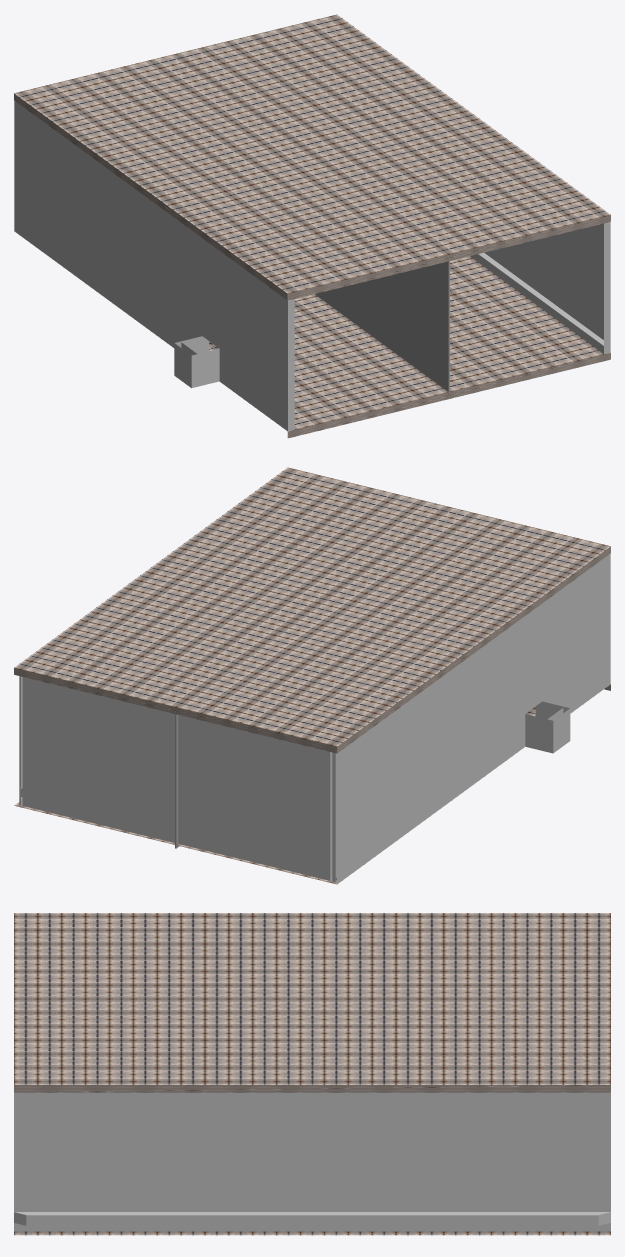
Rendered from singleroomtest.fbx.
3 views of the same model, one above another, from view 1: azimuth 30°, elevation 25°; view 2: azimuth 150°, elevation 25°; view 3: azimuth 270°, elevation 25° (orthographic). The views are drawn at different scales.
Parts seen in each view (by area): view 1: plafond, pCube1, vloer, rightwall, middlewall; view 2: plafond, backwall, pCube1, vloer; view 3: plafond, rightwall, vloer.
Boxes of the visible parts, x1=… form: plafond: x1=14, y1=14, x2=610, y2=300; pCube1: x1=14, y1=101, x2=294, y2=431; vloer: x1=15, y1=232, x2=610, y2=438; rightwall: x1=470, y1=222, x2=610, y2=354; middlewall: x1=315, y1=257, x2=449, y2=395; plafond: x1=14, y1=467, x2=610, y2=753; backwall: x1=19, y1=676, x2=335, y2=882; pCube1: x1=330, y1=553, x2=610, y2=883; vloer: x1=14, y1=684, x2=610, y2=884; plafond: x1=14, y1=913, x2=610, y2=1092; rightwall: x1=14, y1=1092, x2=610, y2=1231; vloer: x1=14, y1=1231, x2=610, y2=1235.
Size of the model in its own units: 26.65 by 10.5 by 36.
